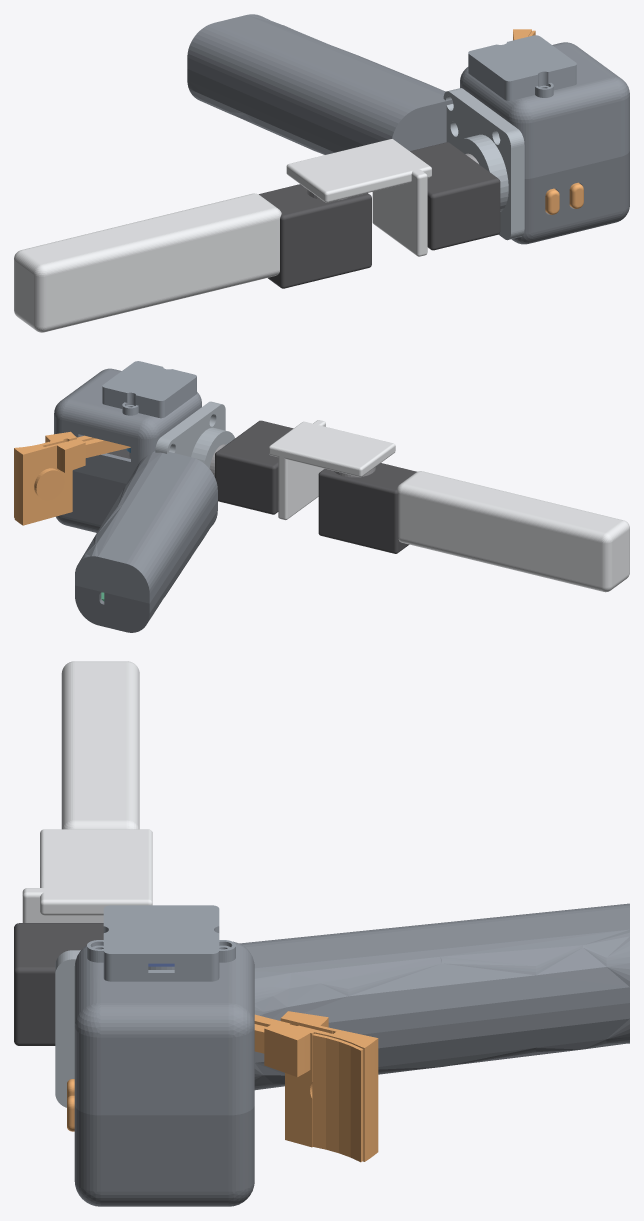
File: hgm_assembly.glb
3 views of the same model, one above another, from view 1: azimuth 30°, elevation 25°; view 2: azimuth 150°, elevation 25°; view 3: azimuth 270°, elevation 25° (orthographic). The views are drawn at different scales.
Parts seen in each view (by area): view 1: wrist_links, housing_encoder_half, wrist_servos, housing_servo_half, mount_adapter, encoder_cover; view 2: wrist_links, housing_encoder_half, wrist_servos, housing_servo_half, blade, encoder_cover, mount_adapter, lever; view 3: housing_encoder_half, housing_servo_half, wrist_links, encoder_cover, blade, wrist_servos, blade_skin, mount_adapter.
Boxes of the visible parts, x1,y1,x2,y2 form: wrist_links: [14, 139, 431, 332]; housing_encoder_half: [187, 14, 629, 178]; wrist_servos: [259, 142, 500, 288]; housing_servo_half: [187, 69, 629, 244]; mount_adapter: [443, 88, 524, 240]; encoder_cover: [468, 35, 576, 100]; wrist_links: [269, 420, 629, 592]; housing_encoder_half: [54, 368, 217, 603]; wrist_servos: [215, 420, 416, 553]; housing_servo_half: [56, 471, 217, 632]; blade: [14, 431, 85, 525]; encoder_cover: [102, 361, 196, 418]; mount_adapter: [155, 401, 234, 468]; lever: [77, 435, 130, 457]; housing_encoder_half: [74, 903, 629, 1115]; housing_servo_half: [74, 1003, 629, 1206]; wrist_links: [22, 661, 152, 922]; encoder_cover: [87, 905, 235, 981]; blade: [264, 1011, 378, 1161]; wrist_servos: [14, 923, 103, 1045]; blade_skin: [312, 1033, 363, 1162]; mount_adapter: [55, 950, 80, 1107].
Size of the model in its own units: 225 by 58.2 by 142.
